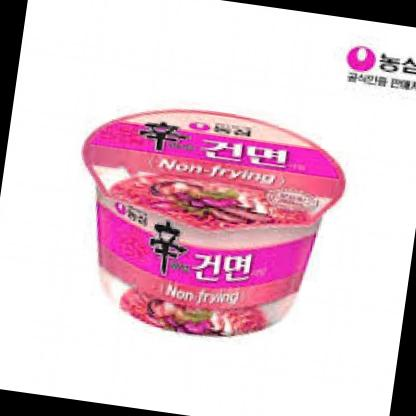Ramen: (55, 95, 352, 366)
